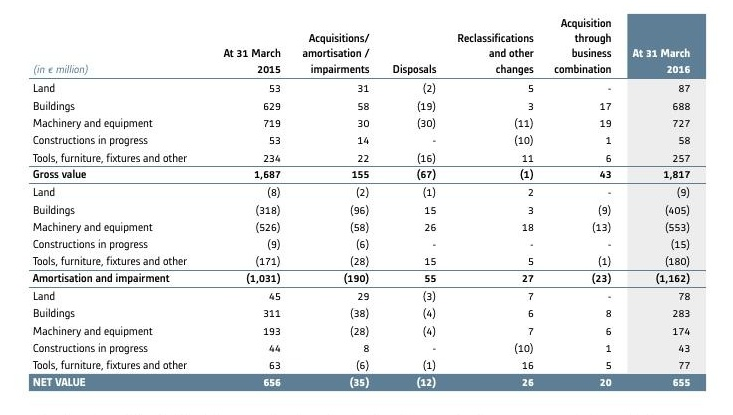table: (0, 0, 733, 415)
